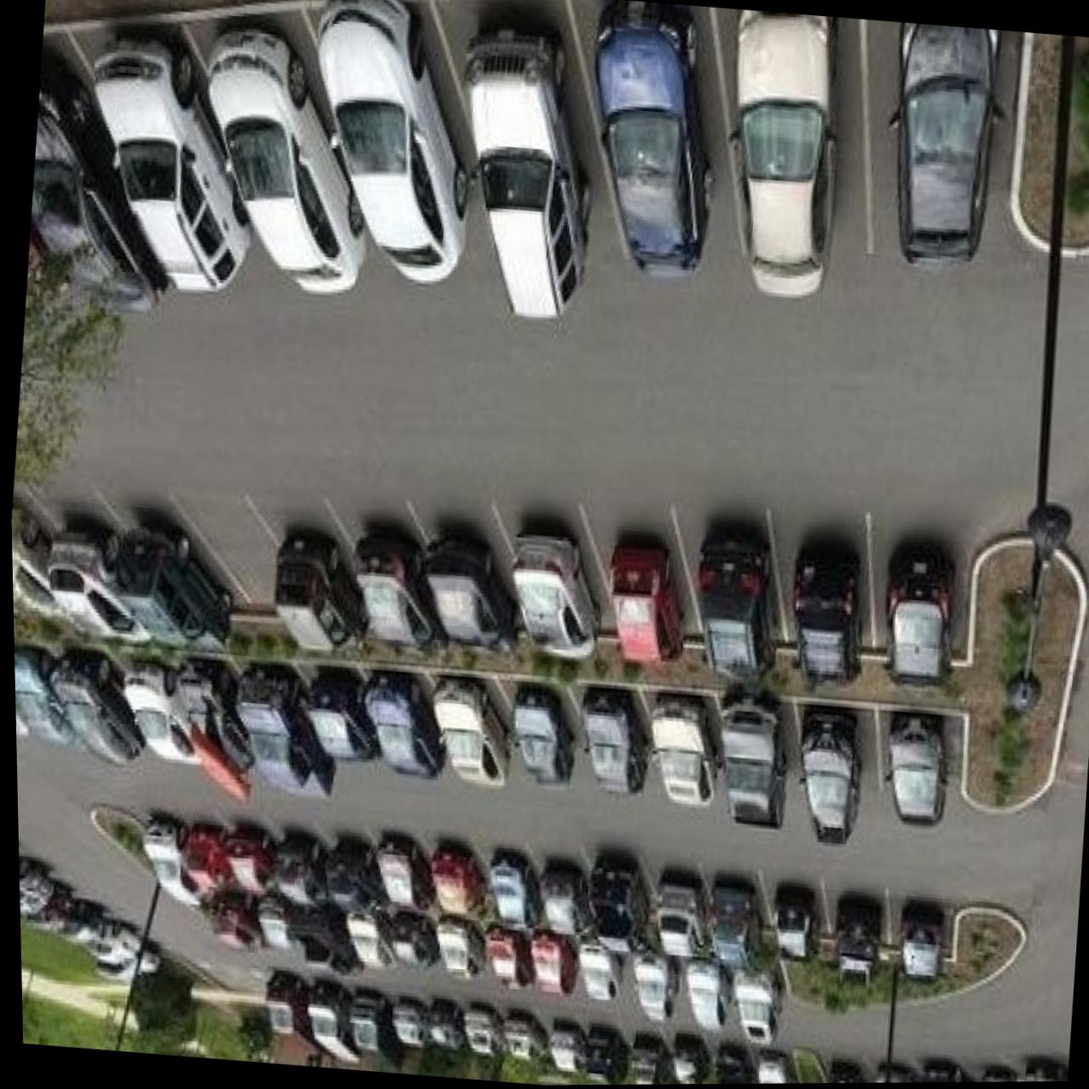cars: (61, 6, 272, 326), (174, 0, 379, 312), (17, 6, 187, 344), (311, 0, 501, 280), (703, 7, 889, 287), (444, 0, 619, 285), (567, 0, 744, 281), (842, 22, 1027, 266), (656, 480, 801, 673), (481, 487, 629, 661), (579, 490, 721, 669), (759, 489, 892, 675), (102, 490, 252, 654), (862, 499, 984, 690), (248, 497, 385, 658), (401, 493, 530, 660), (28, 494, 160, 655), (327, 497, 446, 659), (212, 650, 328, 797), (790, 690, 888, 848), (868, 696, 965, 854), (41, 639, 144, 777), (158, 641, 256, 784), (290, 647, 386, 790), (103, 643, 197, 785), (350, 661, 448, 793), (416, 664, 517, 792), (710, 687, 800, 829), (488, 669, 582, 804), (630, 681, 723, 816), (554, 670, 644, 805), (573, 839, 660, 950), (701, 849, 774, 966), (757, 863, 834, 973), (820, 875, 893, 989), (645, 842, 712, 963), (884, 877, 959, 985), (14, 642, 75, 773), (128, 811, 198, 924), (477, 830, 546, 940), (317, 821, 389, 926), (423, 825, 493, 929), (220, 808, 285, 917), (179, 807, 240, 921), (270, 813, 333, 917), (374, 822, 438, 920), (532, 843, 592, 944), (283, 905, 360, 982), (720, 955, 798, 1029), (426, 914, 495, 992), (301, 973, 362, 1056), (195, 893, 261, 969), (673, 951, 738, 1027), (477, 926, 541, 1002), (334, 907, 396, 985), (521, 929, 586, 1002), (248, 895, 306, 975), (341, 976, 401, 1053), (568, 938, 635, 1004), (378, 983, 435, 1060), (379, 914, 439, 986), (410, 991, 470, 1063), (621, 951, 682, 1021), (498, 1003, 555, 1075), (577, 1019, 638, 1085), (257, 966, 311, 1037), (540, 1016, 595, 1085), (457, 1000, 510, 1071), (623, 1026, 678, 1085), (659, 1029, 717, 1084), (21, 874, 107, 908), (58, 895, 131, 935), (75, 915, 148, 954), (703, 1040, 760, 1084), (746, 1044, 805, 1084), (867, 1048, 926, 1083), (958, 1053, 1026, 1082), (120, 941, 180, 972), (19, 850, 62, 893), (1019, 1046, 1068, 1082), (822, 1051, 874, 1083), (914, 1061, 982, 1082), (18, 832, 45, 867)
empty: (170, 490, 300, 645)
